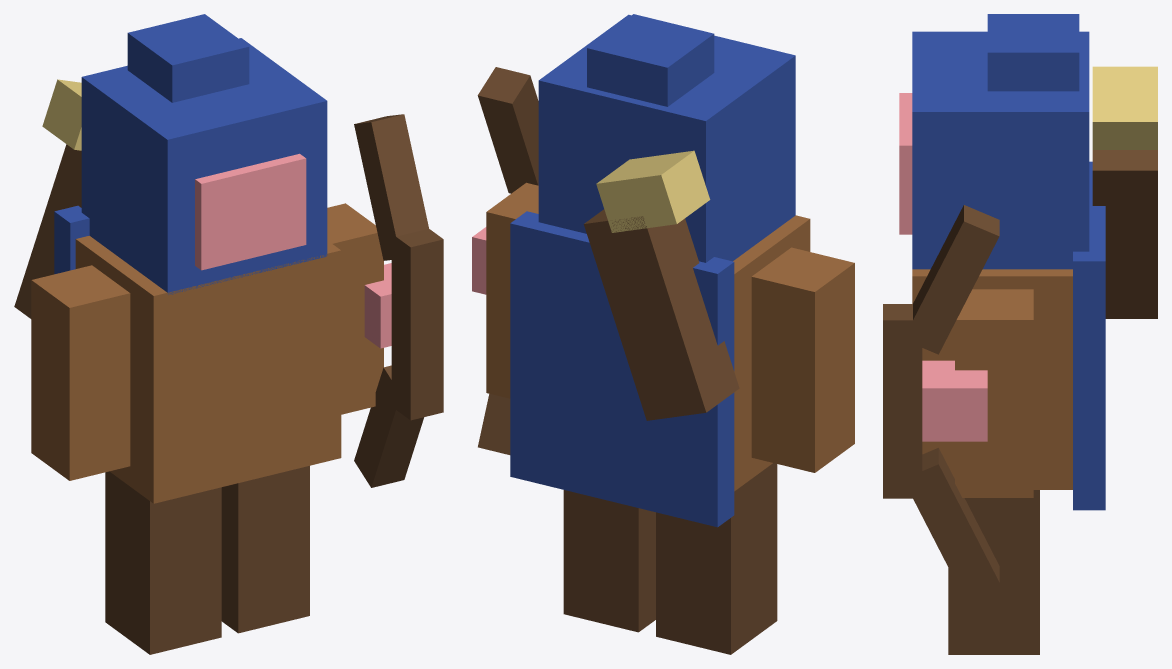
Rendered from archer.glb.
3 views of the same model, side by side, from view 1: azimuth 30°, elevation 25°; view 2: azimuth 150°, elevation 25°; view 3: azimuth 270°, elevation 25° (orthographic). The views are drawn at different scales.
Visible parts, largest first — view 1: Model; view 2: Model; view 3: Model.
Part boxes in pixels (x1,y1,x2,y2): Model: (14,14,443,654); Model: (472,14,854,654); Model: (883,14,1157,654).
Bounding box in the file's own units: 0.635 × 0.98 × 0.42.
